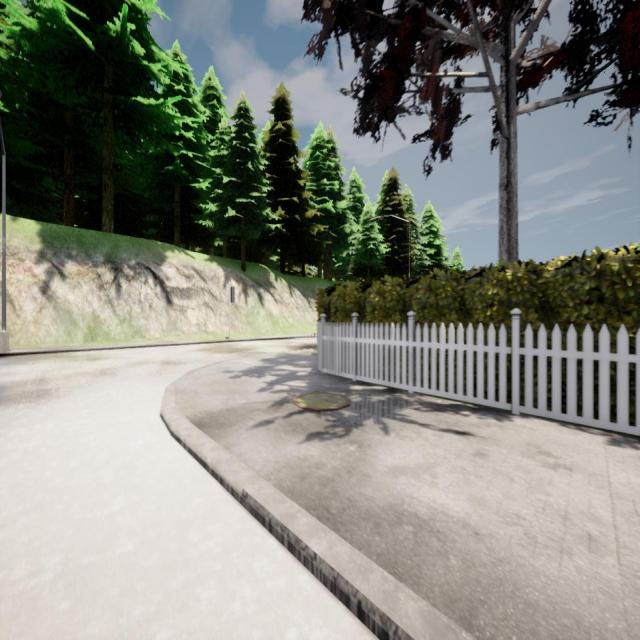traffic_light: (230, 286, 236, 302)
